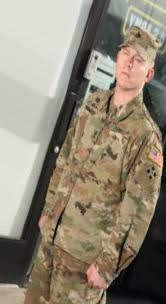uniform: (56, 16, 165, 276)
